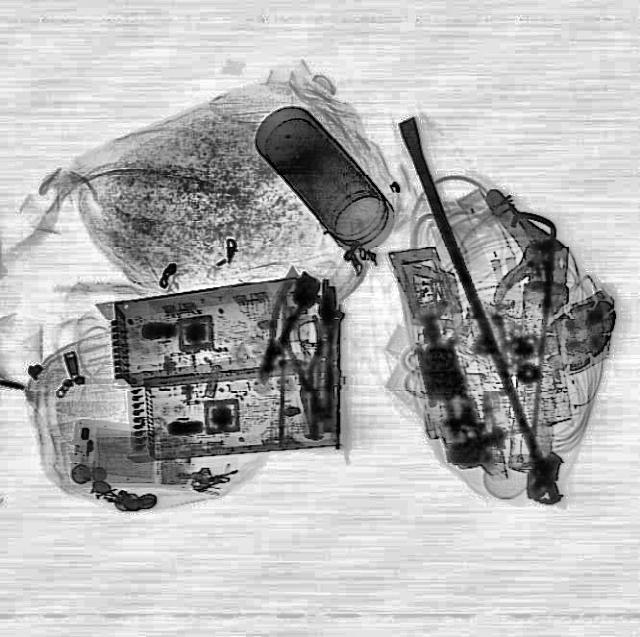Pliers: (278, 312, 336, 438), (246, 278, 308, 382)
